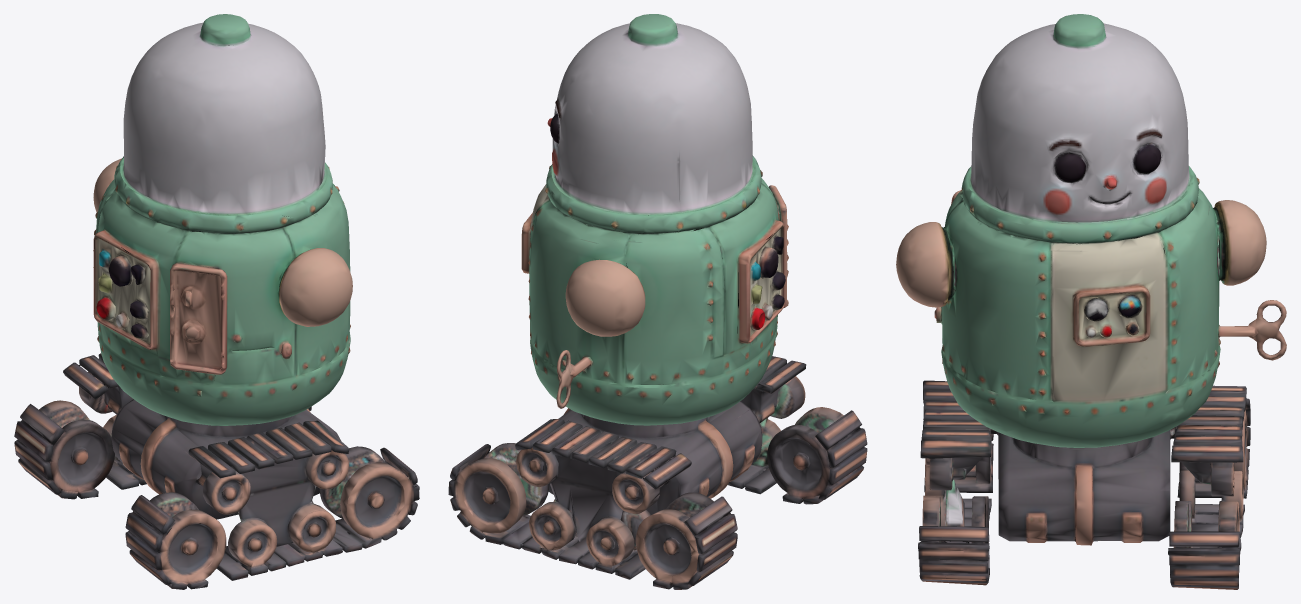
The picture shows the model from 3 angles, left to right: view 1: azimuth 30°, elevation 25°; view 2: azimuth 150°, elevation 25°; view 3: azimuth 270°, elevation 25°; orthographic projection. The views are drawn at different scales.
Parts seen in each view (by area): view 1: repaired; view 2: repaired; view 3: repaired.
Part boxes in pixels (x1,y1,x2,y2): repaired: (14, 14, 419, 589); repaired: (448, 14, 867, 589); repaired: (896, 14, 1286, 589).
Size of the model in its own units: 0.4993 by 0.8592 by 0.5868.
1 material, 1 textured.
